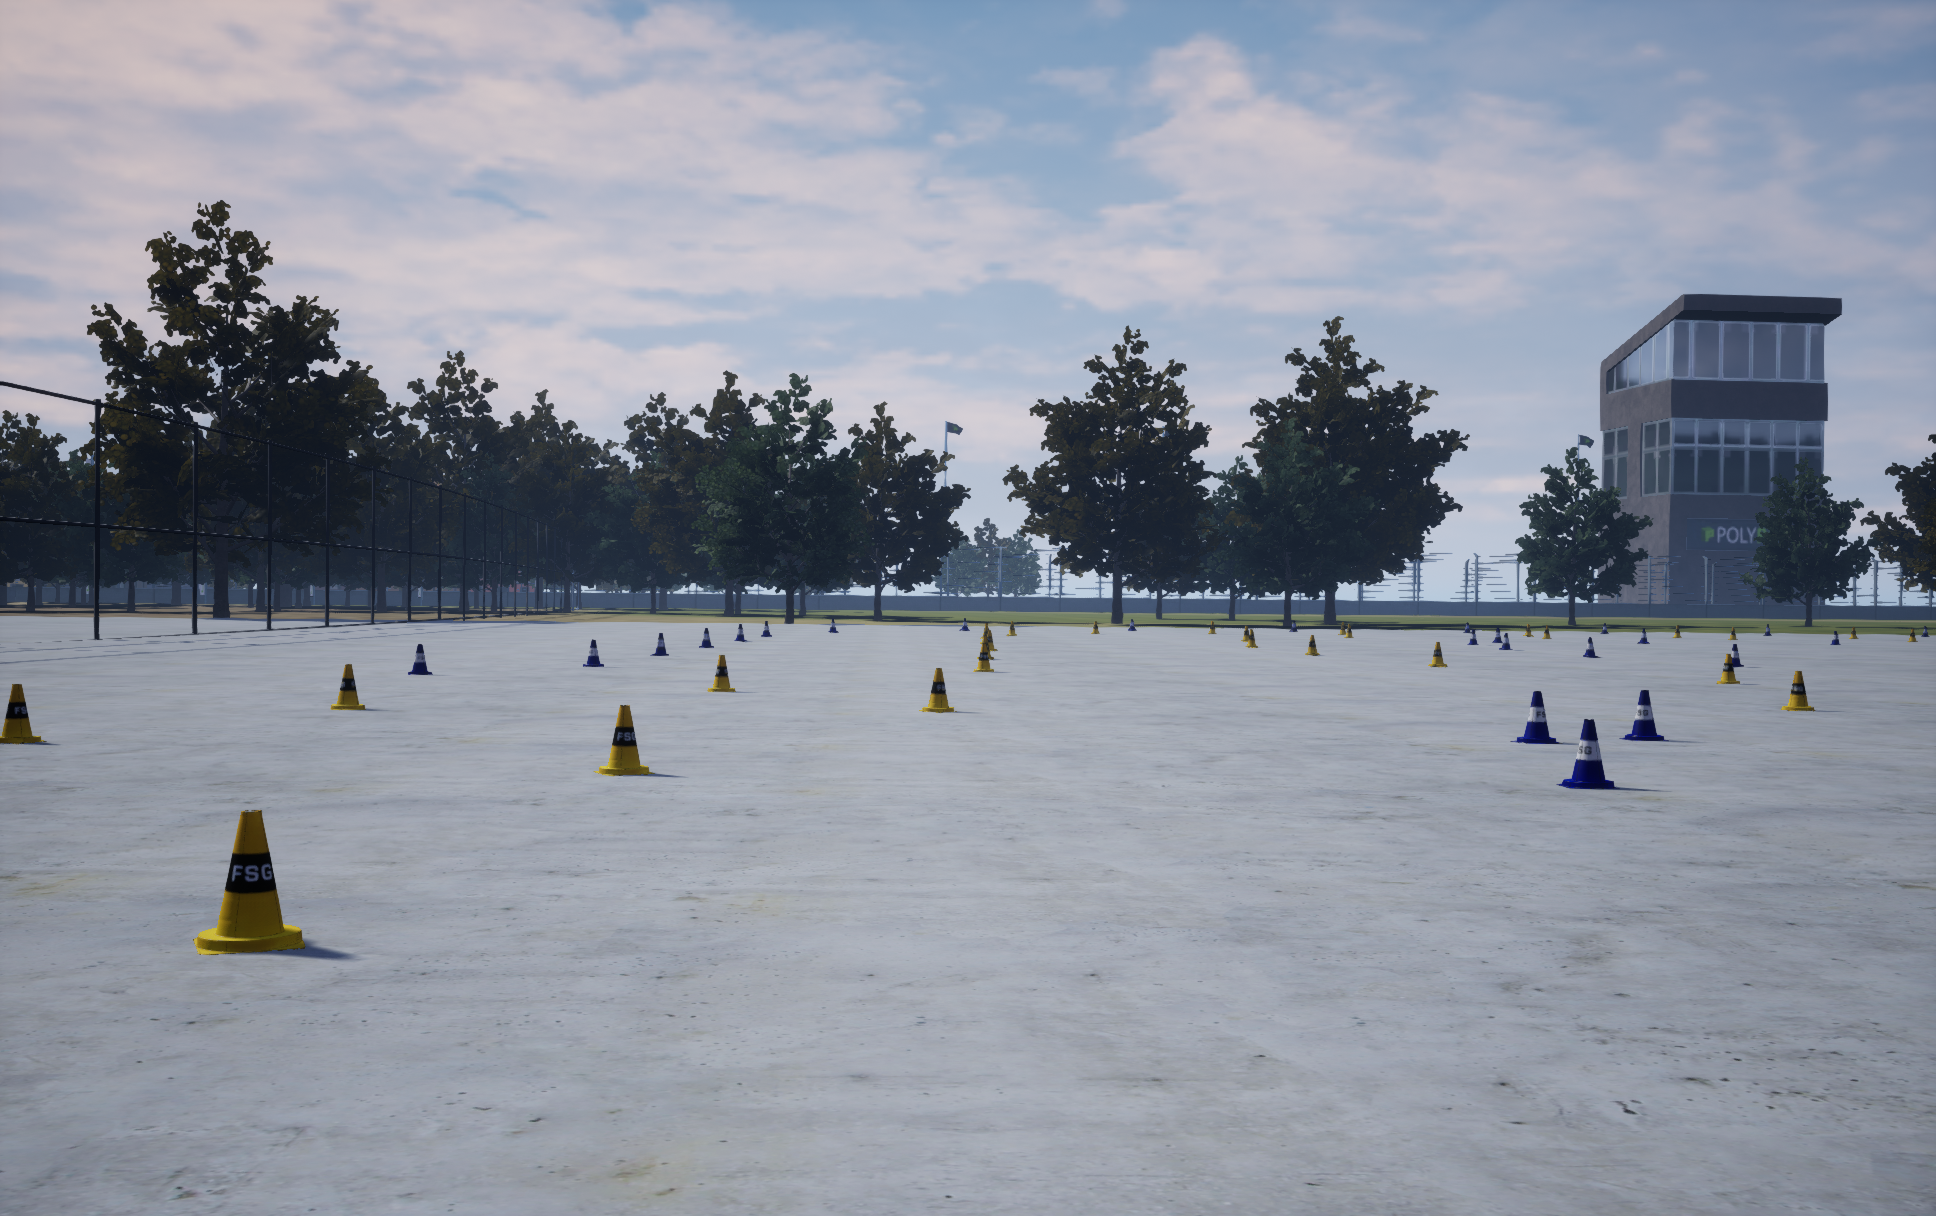blue: (193, 810, 305, 954), (593, 705, 654, 775), (0, 684, 46, 742), (919, 668, 955, 712), (331, 664, 366, 709), (1781, 671, 1816, 710), (707, 656, 735, 691), (1716, 654, 1738, 684), (974, 644, 993, 671), (1427, 642, 1447, 665), (976, 636, 993, 658), (1306, 635, 1320, 656)
yellow: (1556, 719, 1619, 787), (1510, 691, 1562, 742), (1619, 691, 1668, 740), (408, 644, 431, 674), (583, 639, 602, 665), (1723, 644, 1743, 665), (650, 633, 668, 656), (1583, 637, 1600, 657), (699, 628, 713, 647)
